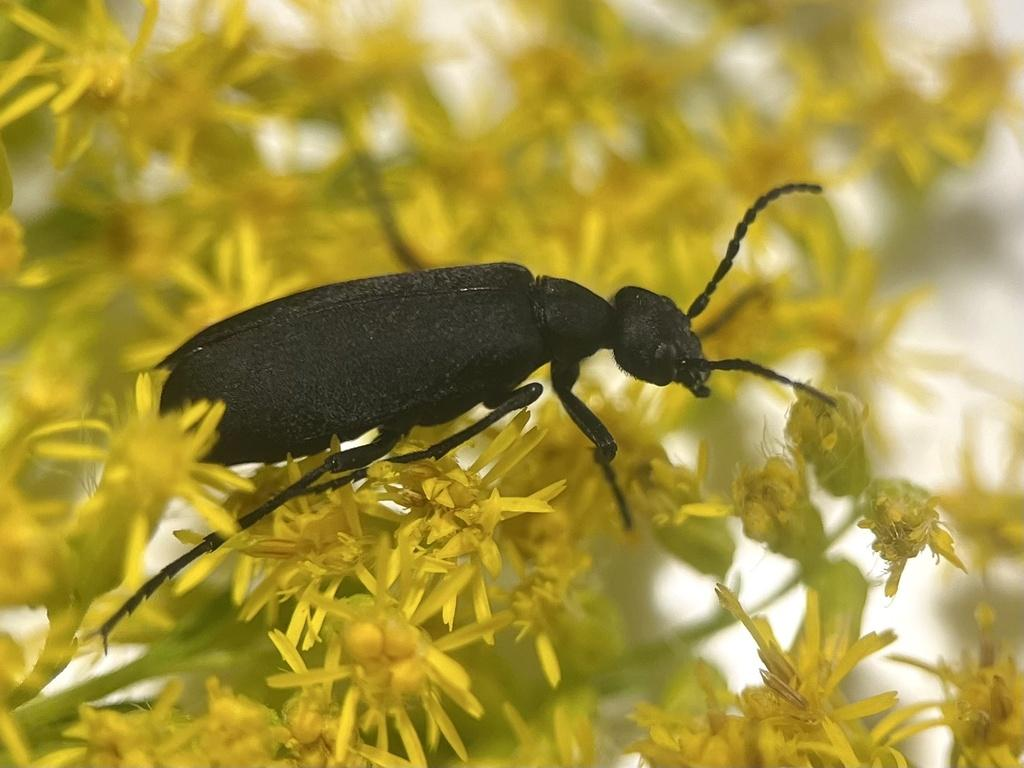blister_beetle: (7, 102, 934, 706)
